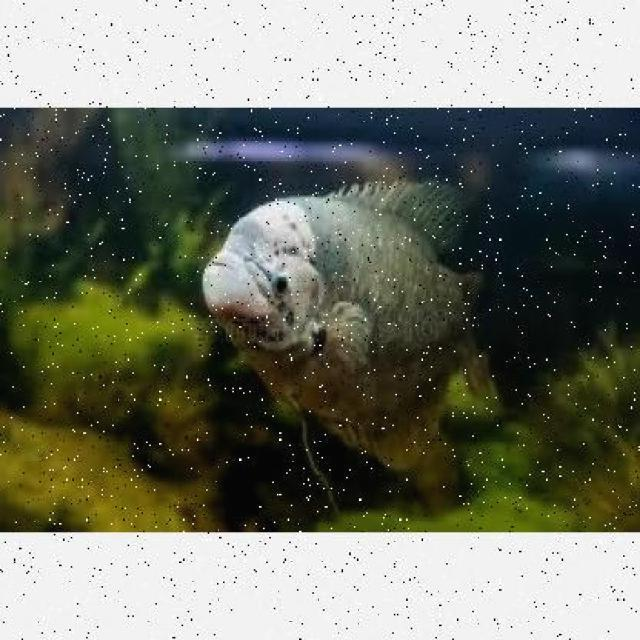gurame: (196, 181, 489, 462)
